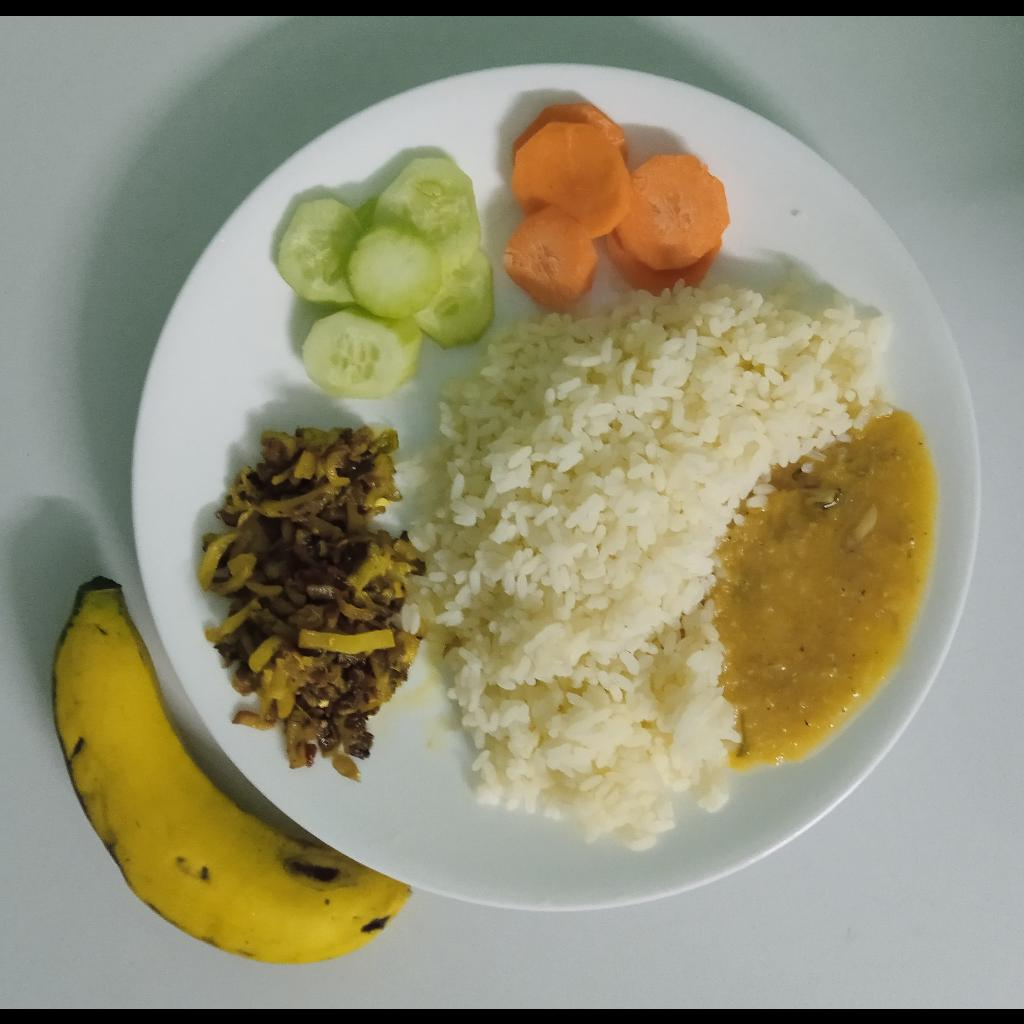banana: (51, 572, 415, 961)
carrot: (500, 102, 731, 305)
cucumber: (278, 155, 496, 399)
daal: (711, 401, 937, 758)
rice: (411, 267, 893, 856)
vegetable: (194, 426, 424, 784)
